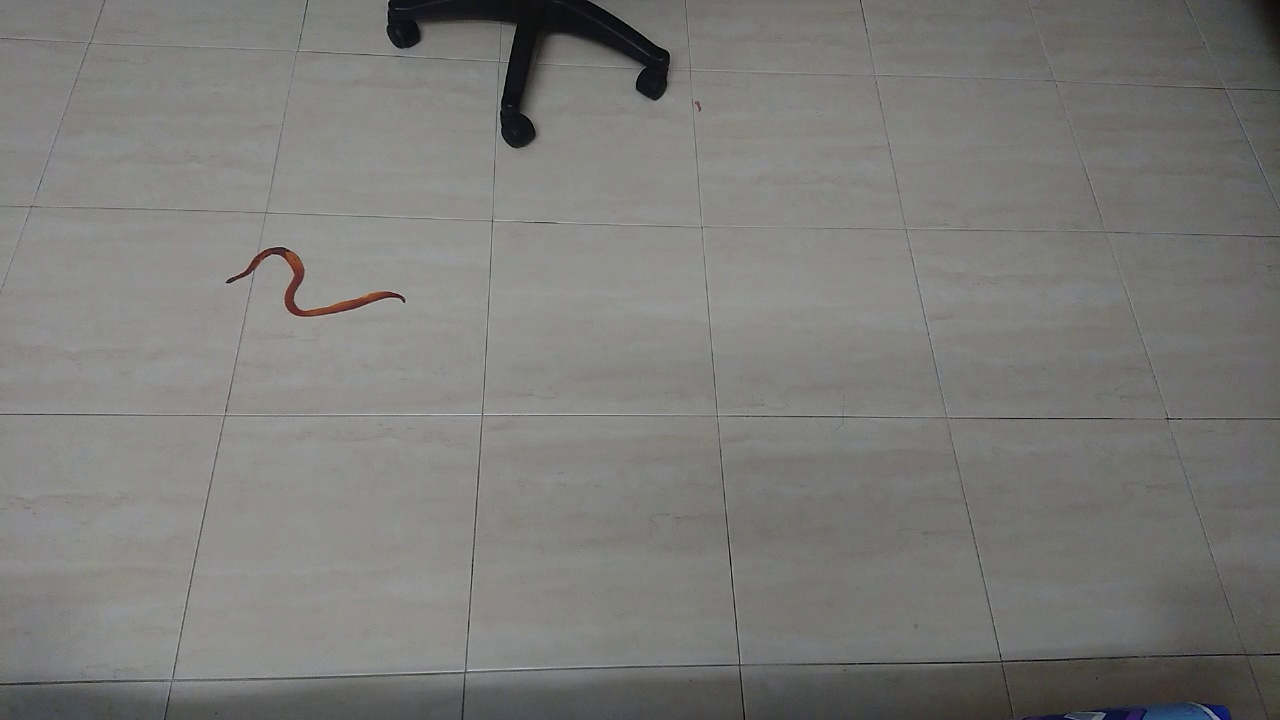snake: (204, 229, 424, 328)
